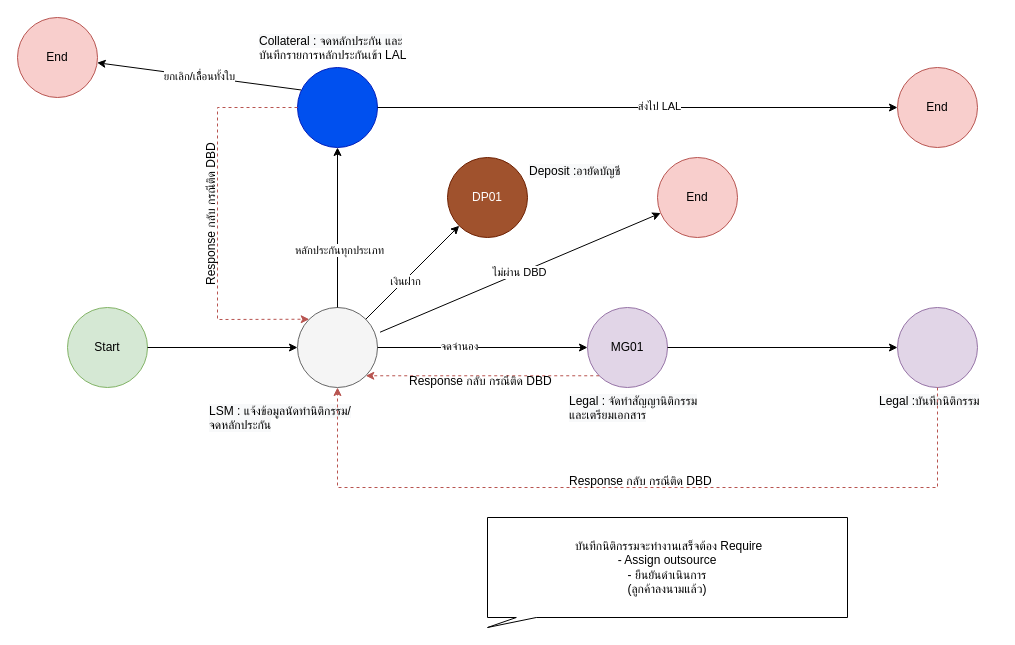
This 1015x645 diagram has some shape labels left out. The shapes that lost their labels are listed below. From the top down, each one's centre as x and y in pixels, then its label:
the point at 337,107: DB01
the point at 337,347: SR03
the point at 937,347: MG03
